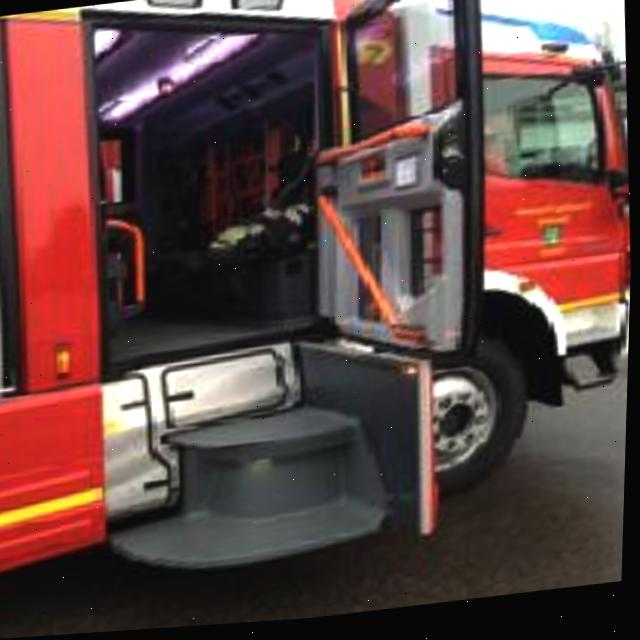emergency: (9, 0, 638, 545)
